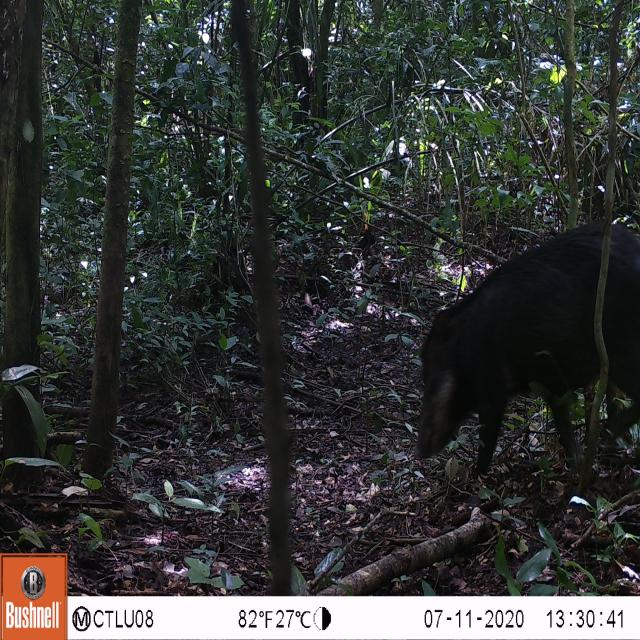Collared Peccary: (399, 215, 640, 506)
